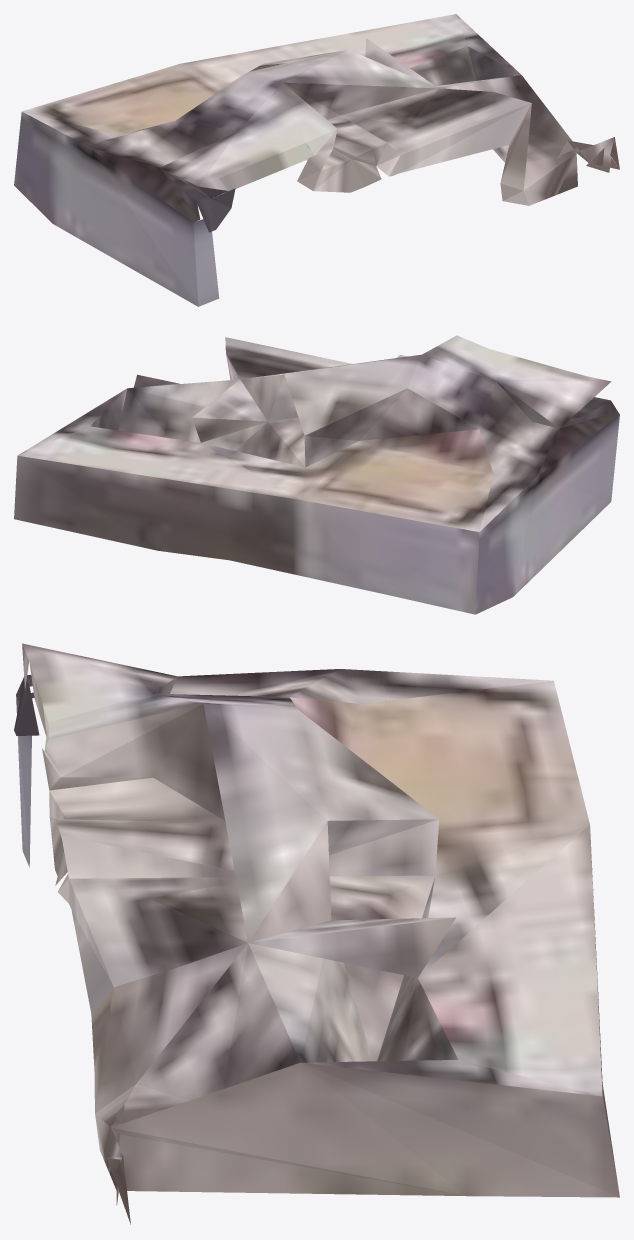
3 renders of one model, top to bottom at view 1: azimuth 30°, elevation 25°; view 2: azimuth 150°, elevation 25°; view 3: azimuth 270°, elevation 25°, orthographic. The views are drawn at different scales.
Parts seen in each view (by area): view 1: Mesh_0; view 2: Mesh_0; view 3: Mesh_0.
Part boxes in pixels (x1=…): Mesh_0: x1=14, y1=14, x2=619, y2=306; Mesh_0: x1=14, y1=335, x2=619, y2=614; Mesh_0: x1=14, y1=643, x2=619, y2=1224.
Bounding box in the file's own units: 19.14 × 5.93 × 12.22.
Materials: 1 (1 with a texture image).
